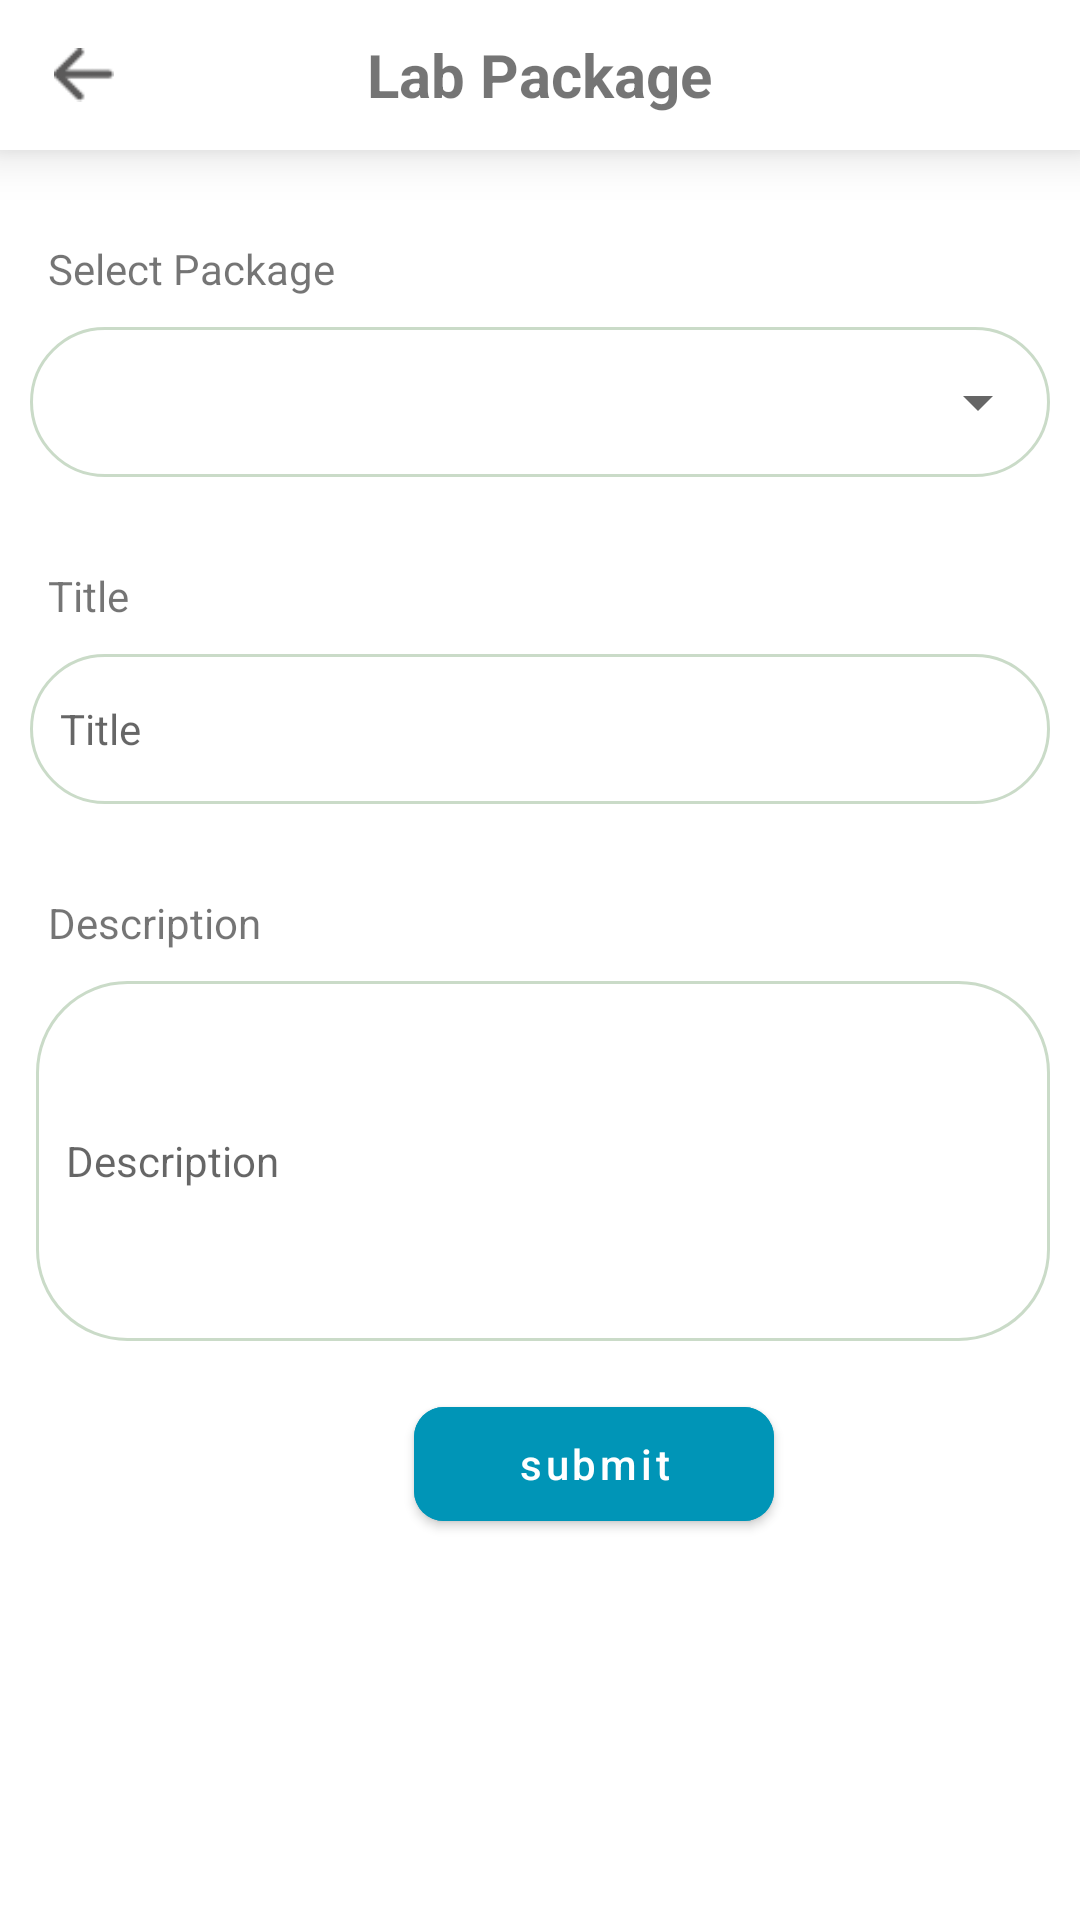

Icons on this 1080×1920 Android screen, each with its box as bbox(x1, y1, x2, y2):
leftarrow: bbox(54, 48, 114, 102)
